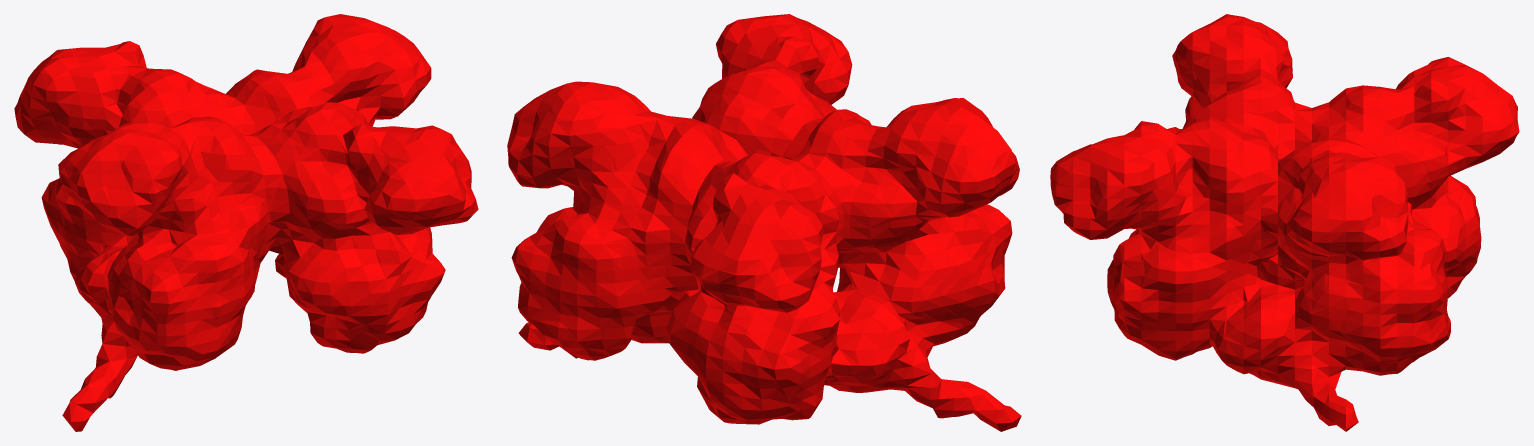
File: rlmB_coarse.dae
The picture shows the model from 3 angles, left to right: view 1: azimuth 30°, elevation 25°; view 2: azimuth 150°, elevation 25°; view 3: azimuth 270°, elevation 25°; orthographic projection. The views are drawn at different scales.
Visible parts, largest first — view 1: rlmB; view 2: rlmB; view 3: rlmB.
Boxes of the visible parts, bbox=[...] form: rlmB: bbox=[14, 14, 478, 431]; rlmB: bbox=[507, 14, 1021, 431]; rlmB: bbox=[1050, 14, 1519, 431].
Size of the model in its own units: 128 by 85.91 by 131.
